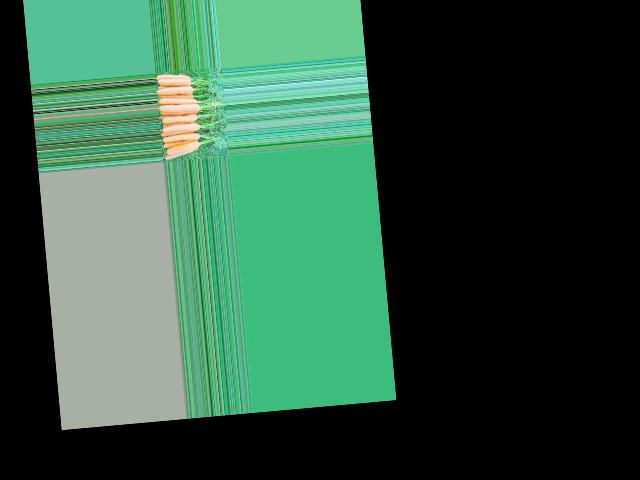carrot: (154, 73, 190, 81)
